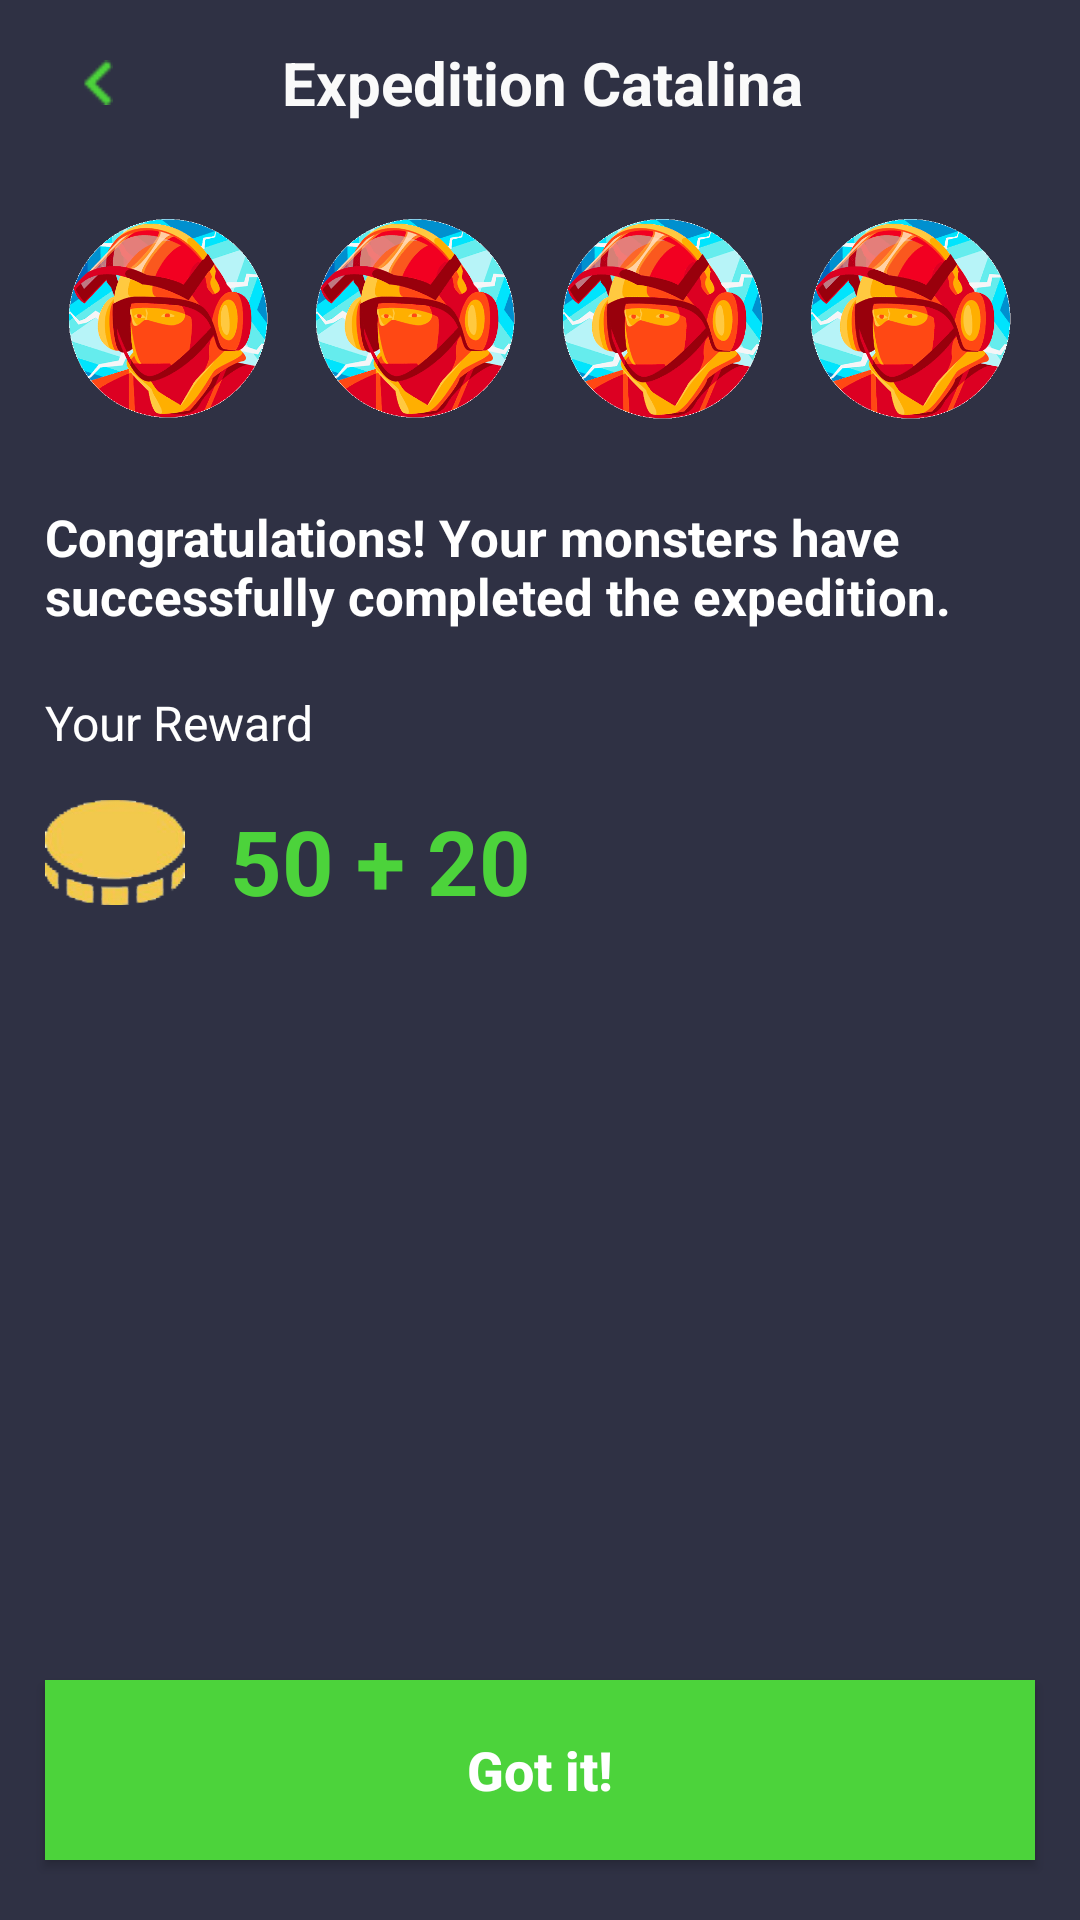

Icon bounding boxes for this 1080 x 1920 phone screenshot, format bbox=[x1, y1, x2, y2]:
chevronleft: bbox=[84, 60, 113, 105]
coins: bbox=[45, 800, 185, 905]
profile picture: bbox=[69, 219, 268, 418], bbox=[316, 219, 515, 418], bbox=[563, 219, 763, 419], bbox=[811, 219, 1011, 419]
